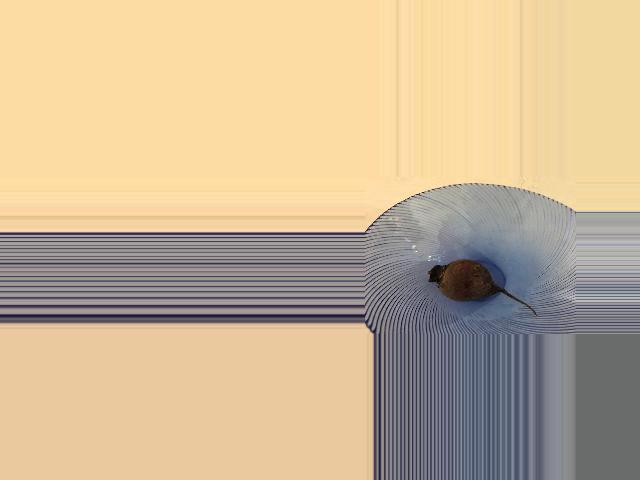beet: (428, 260, 536, 316)
